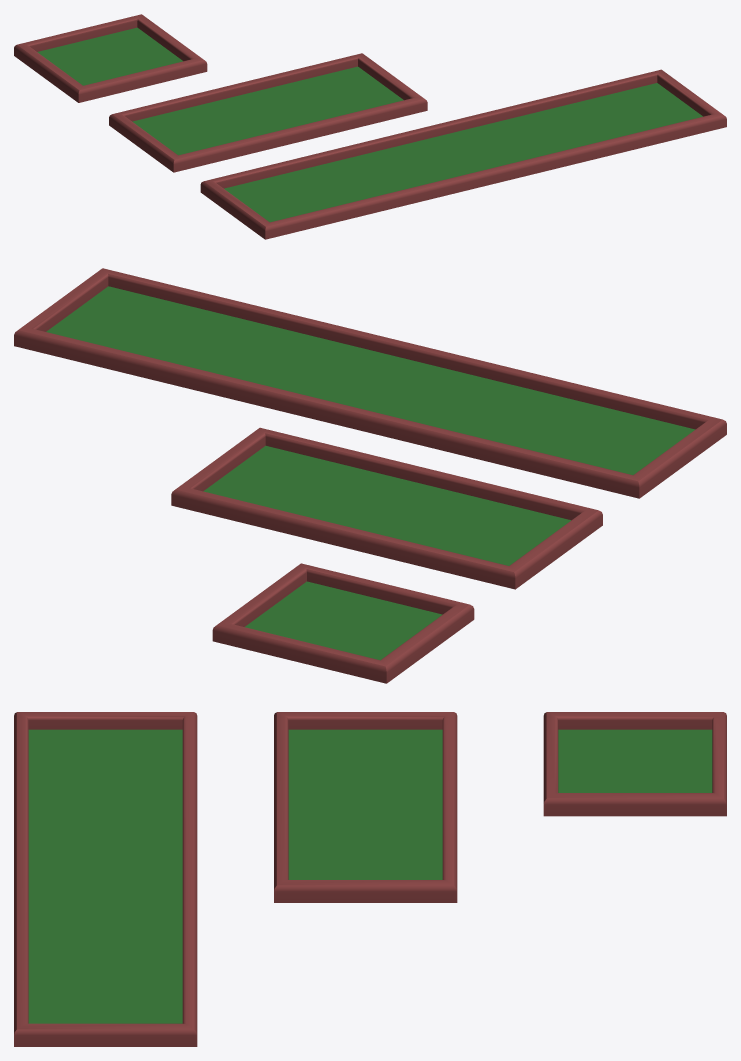
File: F_Grass.fbx
3 views of the same model, one above another, from view 1: azimuth 30°, elevation 25°; view 2: azimuth 150°, elevation 25°; view 3: azimuth 270°, elevation 25° (orthographic). The views are drawn at different scales.
Visible parts, largest first — view 1: F_Grass; view 2: F_Grass; view 3: F_Grass.
Boxes of the visible parts, x1,y1,x2,y2 form: F_Grass: (14, 14, 726, 239); F_Grass: (14, 268, 726, 683); F_Grass: (14, 712, 726, 1046).
Size of the model in its own units: 93.83 by 2.34 by 88.42.
